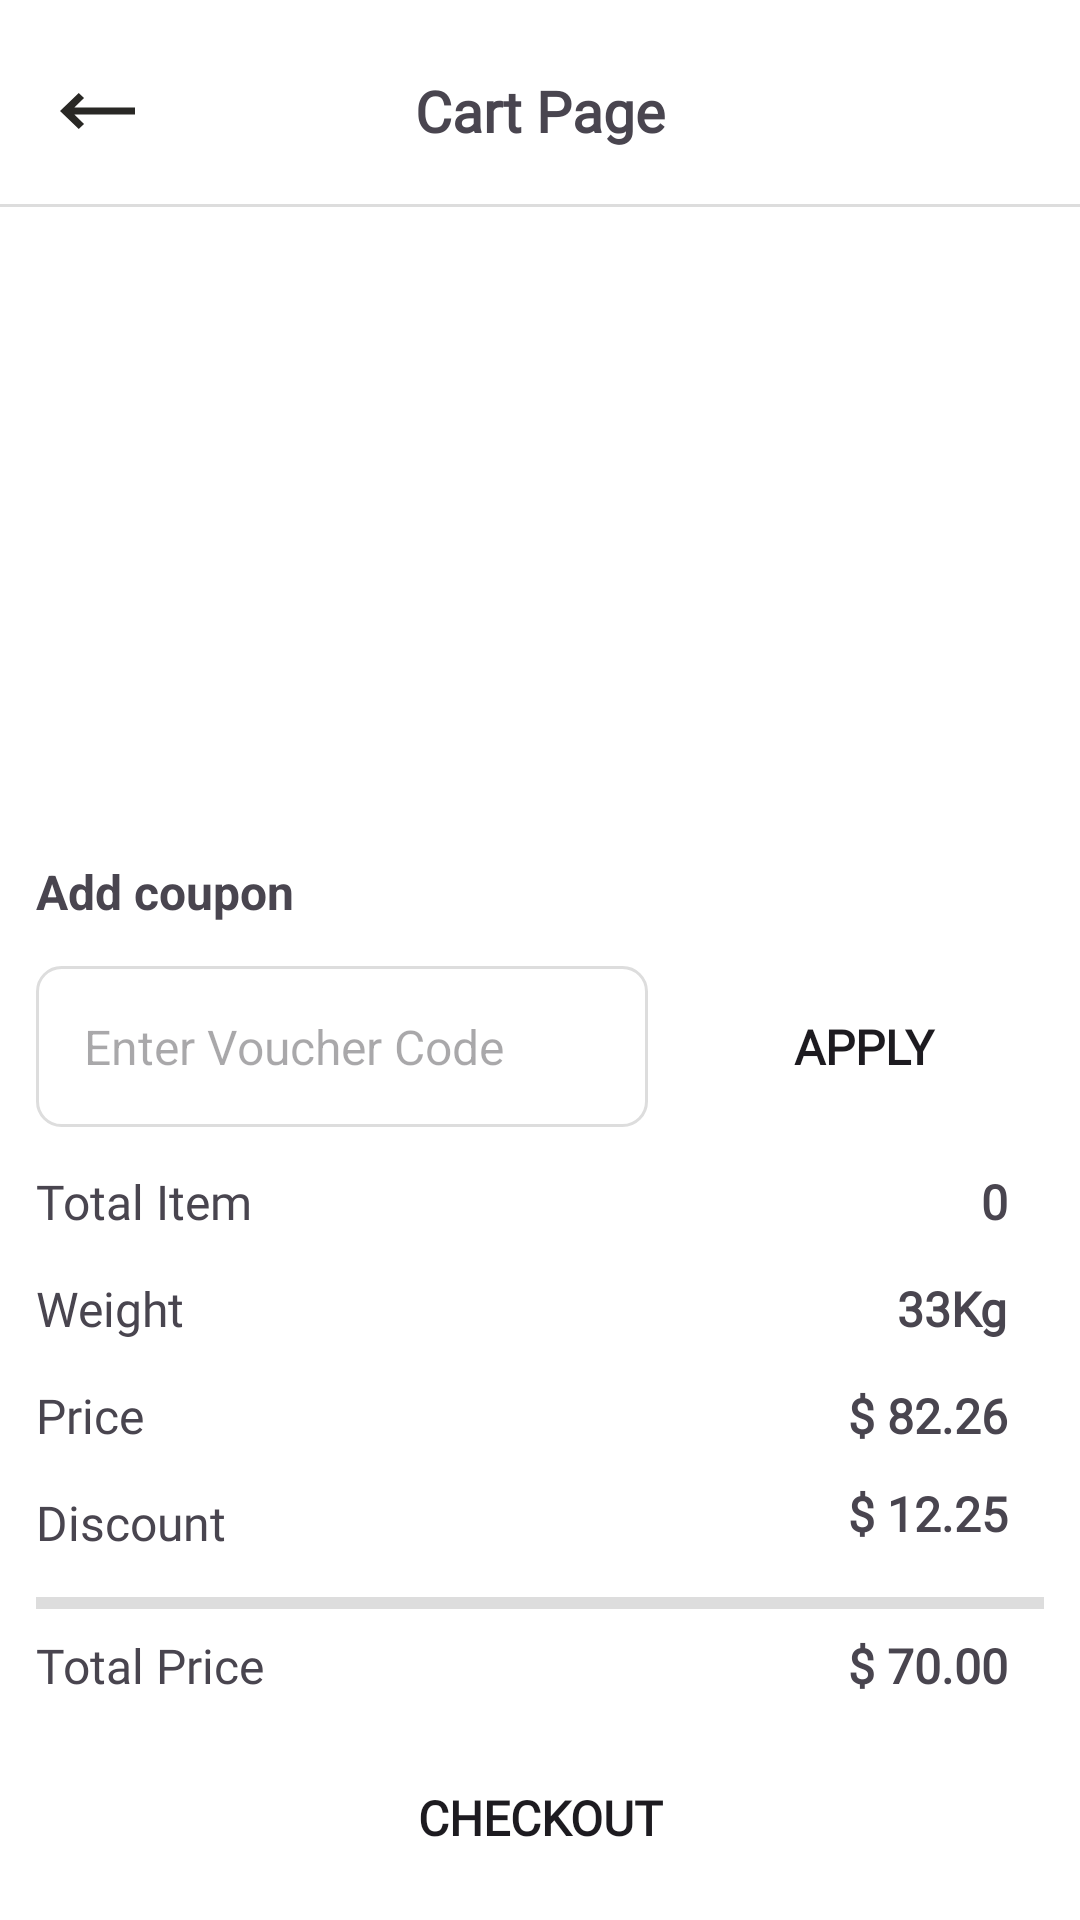

Locate icon controls on the screen. Image size 1080*1920, boxes as box(x1, y1, x2, y2).
left arrow: box(60, 93, 135, 129)
